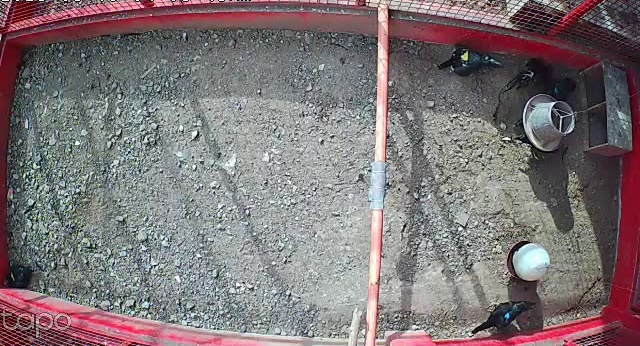Chicken: (469, 292, 540, 336), (431, 41, 507, 80), (1, 264, 37, 289)
Rooster: (502, 54, 554, 94)
Saddle_Color_Blue: (505, 312, 511, 318)
Saddle_Color_Yellow: (462, 51, 468, 60)
